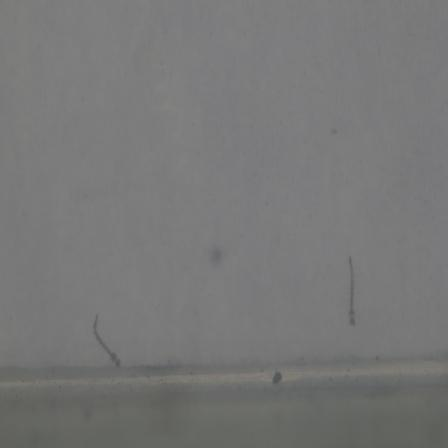Jentik-Nyamuk: (87, 315, 127, 370), (343, 253, 363, 327)
